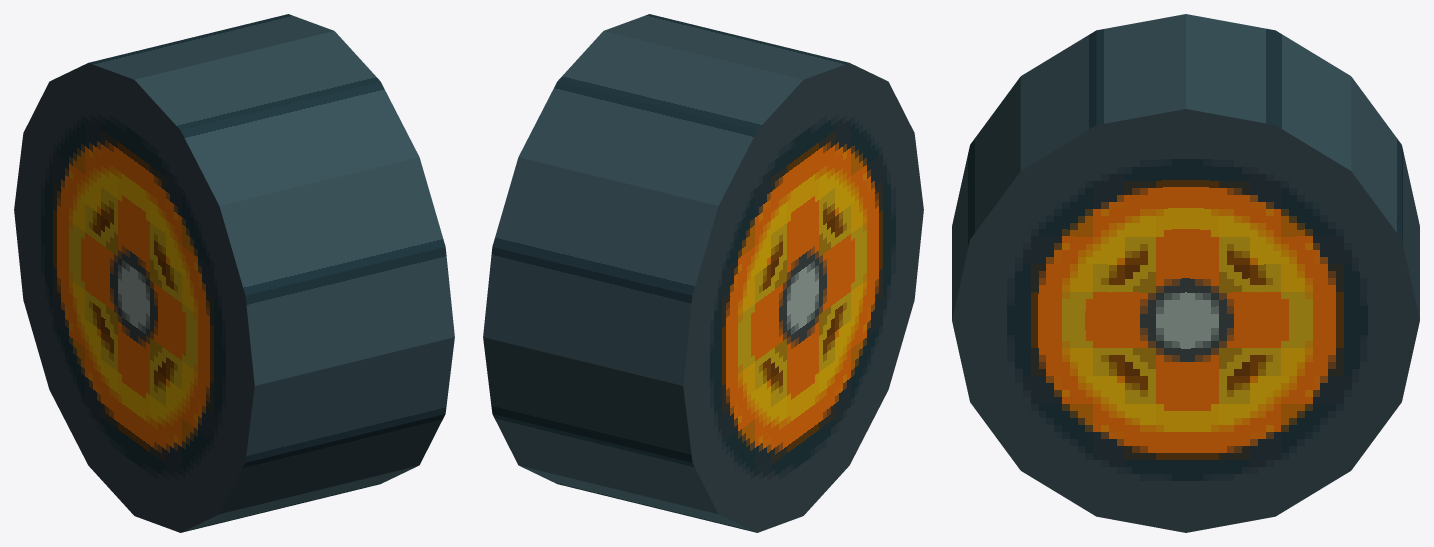
The model's file is kart_tire_S.glb.
3 views of the same model, side by side, from view 1: azimuth 30°, elevation 25°; view 2: azimuth 150°, elevation 25°; view 3: azimuth 270°, elevation 25° (orthographic). The views are drawn at different scales.
Parts seen in each view (by area): view 1: kart_tire_S; view 2: kart_tire_S; view 3: kart_tire_S.
Boxes of the visible parts, x1=… form: kart_tire_S: x1=14, y1=14, x2=454, y2=532; kart_tire_S: x1=483, y1=14, x2=923, y2=532; kart_tire_S: x1=952, y1=14, x2=1419, y2=532.
Size of the model in its own units: 0.0942 by 0.1963 by 0.1963.
1 material, 1 textured.
